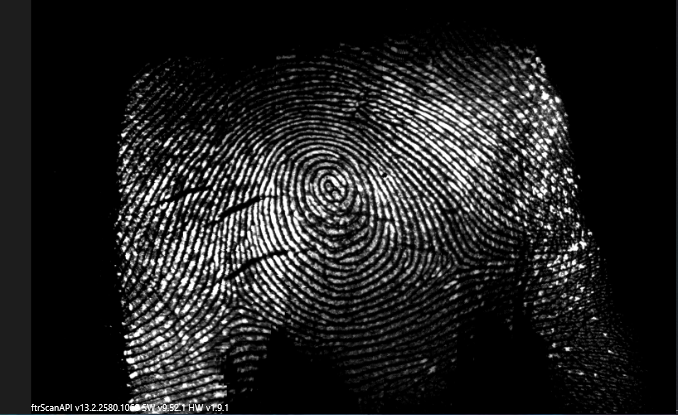deltas: (200, 280, 268, 332), (424, 233, 480, 284)
nucleo: (293, 151, 366, 220)
